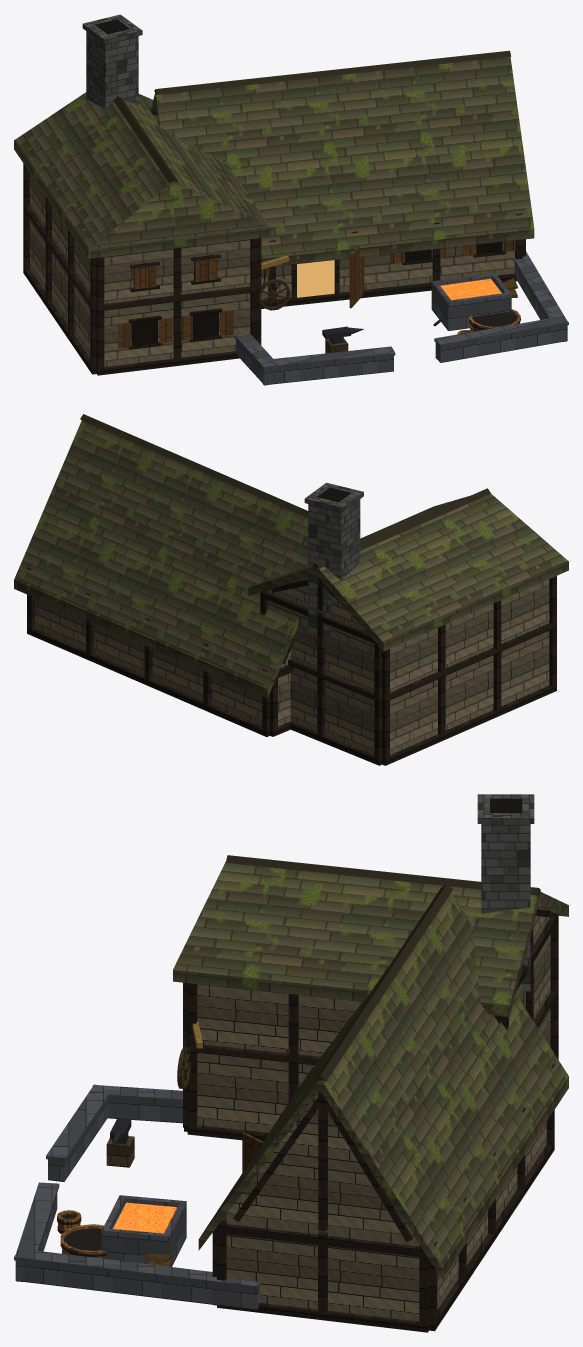
The model's file is Arabuild04.glb.
3 renders of one model, top to bottom at view 1: azimuth 30°, elevation 25°; view 2: azimuth 150°, elevation 25°; view 3: azimuth 270°, elevation 25°, orthographic. The views are drawn at different scales.
Parts seen in each view (by area): view 1: Arabuild04_pwall; view 2: Arabuild04_pwall; view 3: Arabuild04_pwall.
Part boxes in pixels (x1,y1,x2,y2): Arabuild04_pwall: (14,14,568,385); Arabuild04_pwall: (14,414,568,765); Arabuild04_pwall: (14,794,568,1332).
Bounding box in the file's own units: 16.62 × 8.06 × 12.94.
18 materials, 10 textured.
